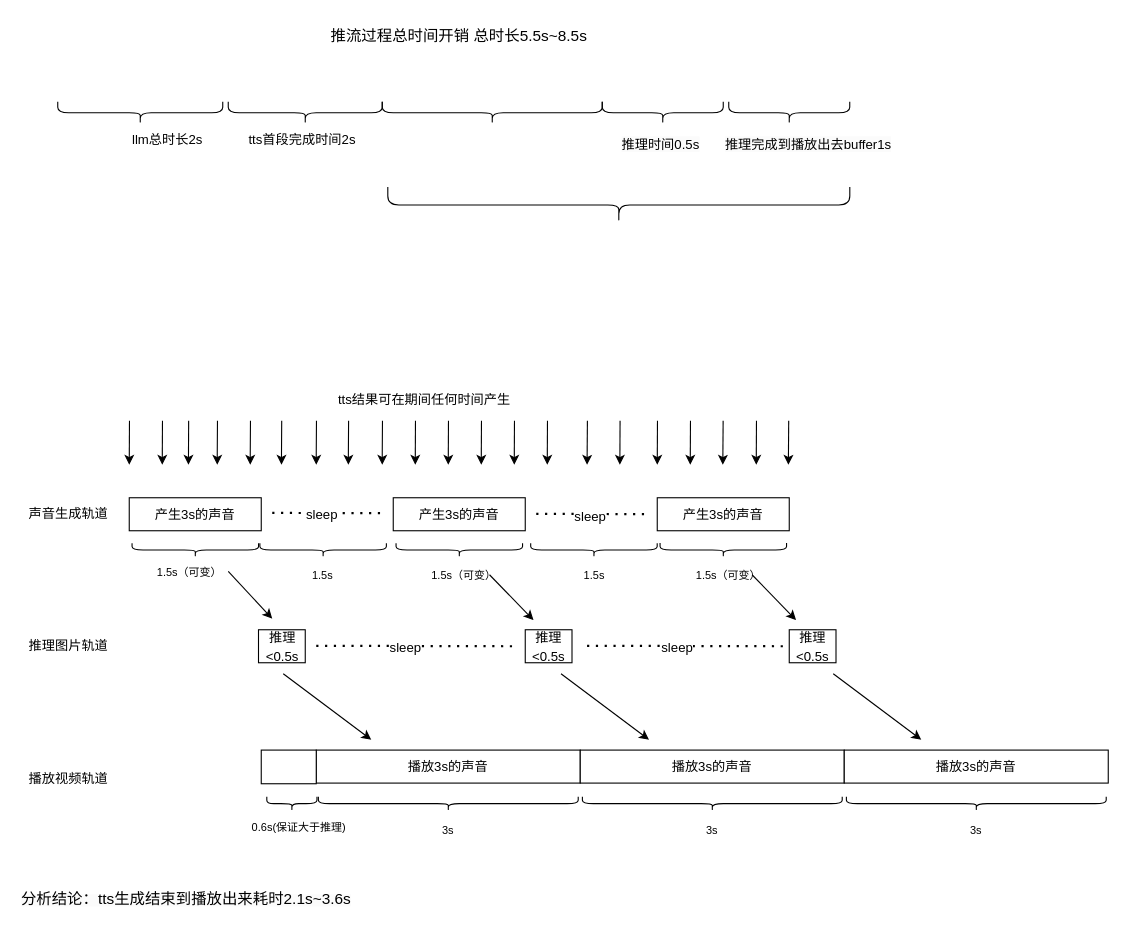
Image size: 1128x934. Some labels were removed from this diagram. Each missing label, with the centre of its shape:
"tts后的推流过程1.5s ~ 4.5s" goes at (618,204).
"推理刚好在处理静默时间0-3s(batch正相关)" goes at (491,112).
"播放buffer" goes at (288,766).
